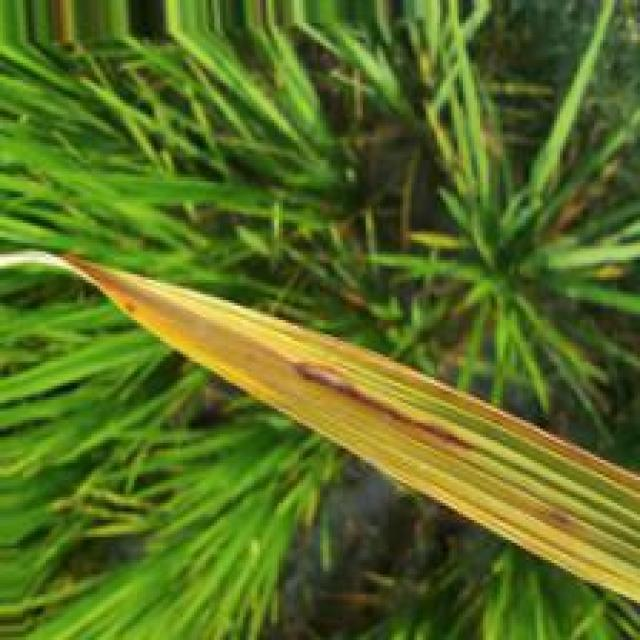Rice Tungro: (55, 256, 605, 587)
